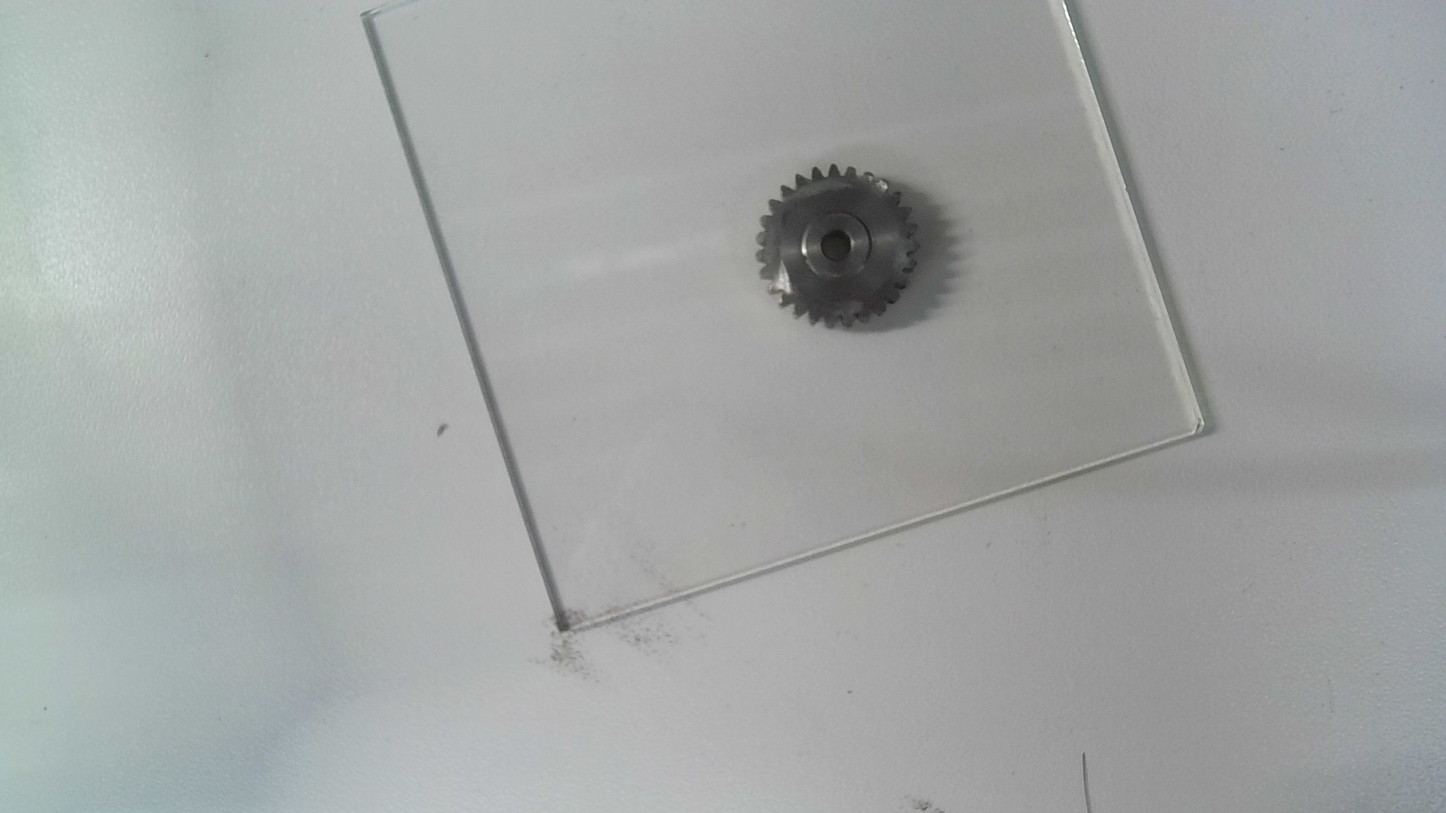gear: (752, 161, 925, 335)
